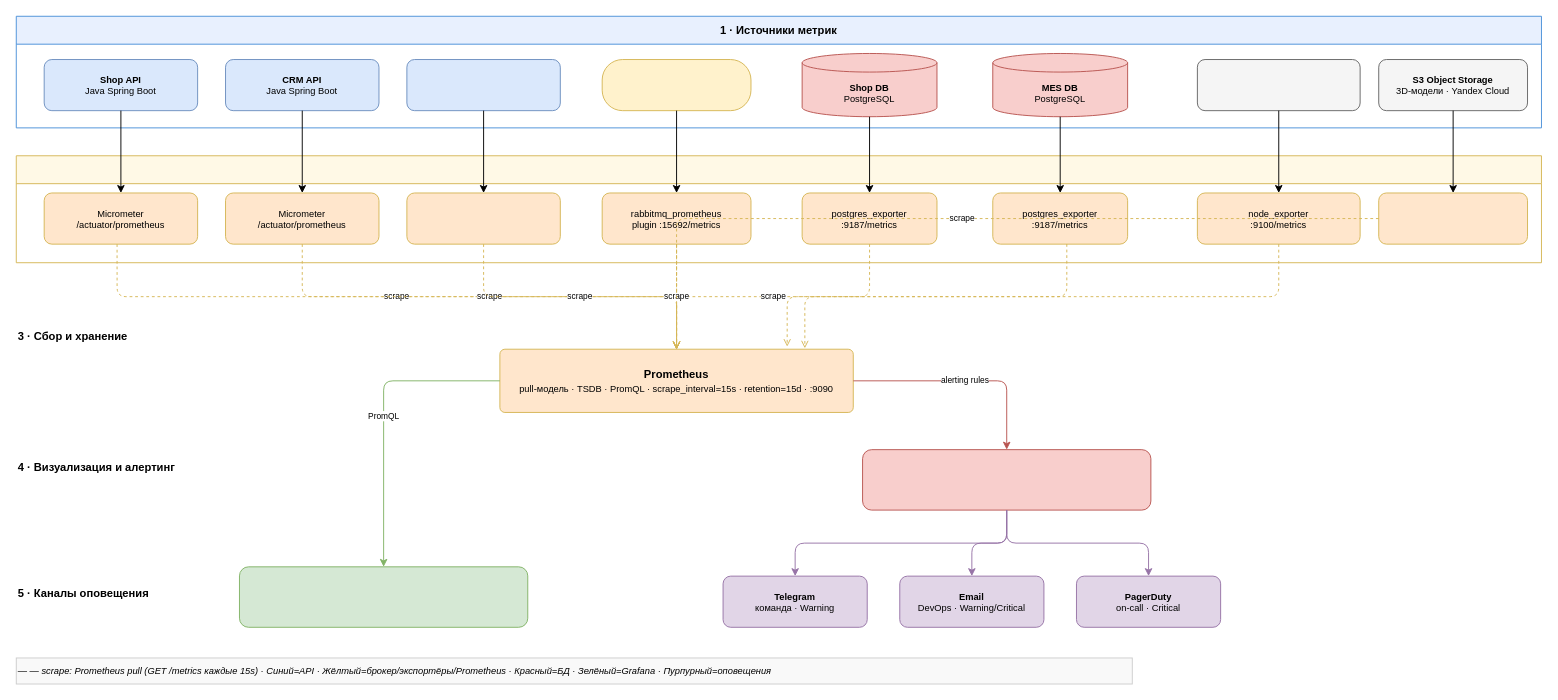
Image size: 1558x700. Some labels were removed from this diagram. Each missing label, with the box of its shape:
2 · Экспортёры / агенты (expose /metrics): (15, 155, 1541, 263)
AlertManager routing · deduplication · grouping · silence: (862, 449, 1151, 510)
EC2 инстансы 3 шт. · Yandex Cloud: (1196, 59, 1360, 111)
Grafana RED · USE · Golden Signals · Бизнес-дашборды: (239, 566, 528, 627)
MES API C# .NET: (406, 59, 560, 111)
prometheus-net .AspNetCore /metrics: (406, 192, 560, 244)
RabbitMQ message broker: (601, 59, 751, 111)
Yandex Monitoring (bucket size): (1378, 192, 1528, 244)
